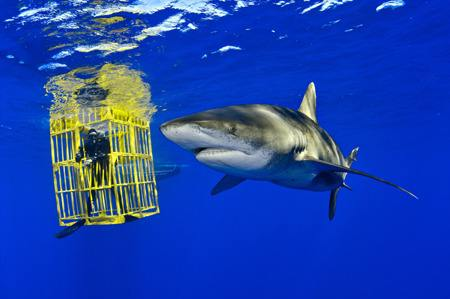shark: (165, 76, 413, 217)
